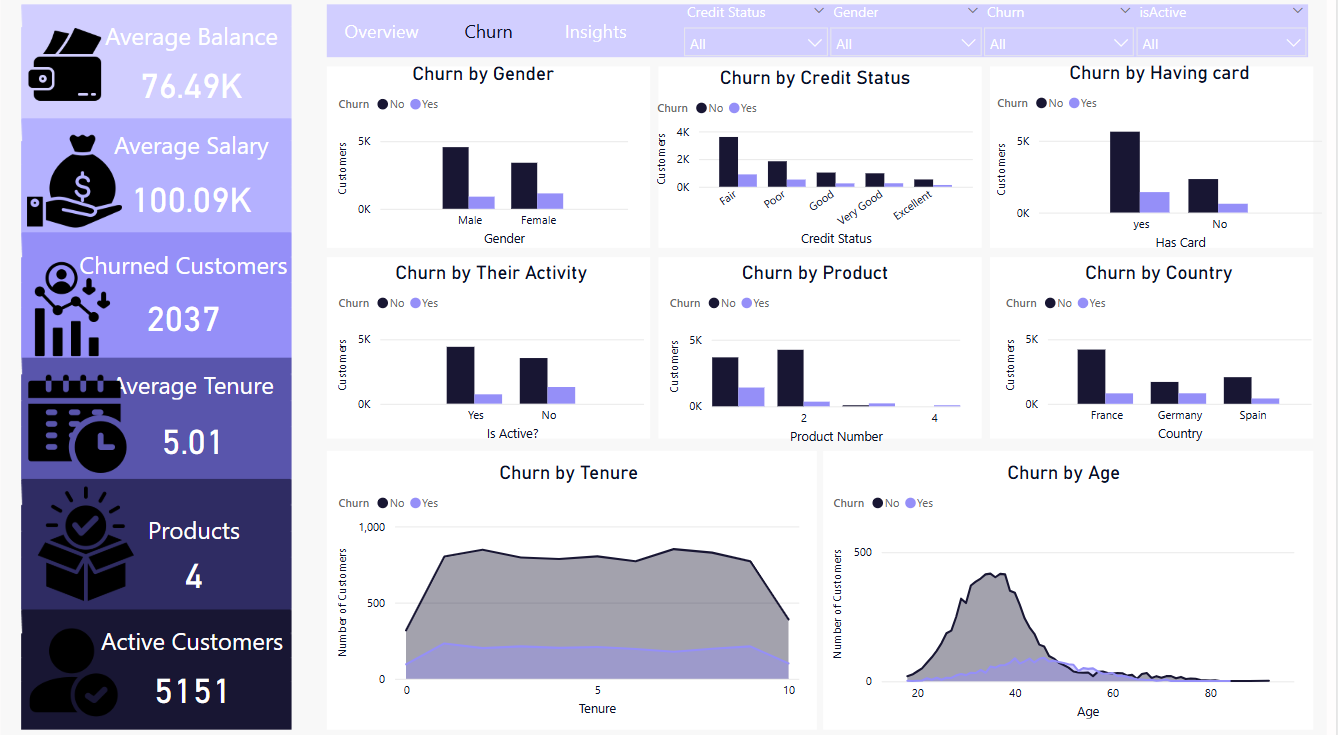

This screenshot's page, from the dashboard's own definition file:
{"tool":"powerbi","page":{"name":"Churn","canvas":[1280,720],"ordinal":1},"visuals":[{"type":"image","box":[0,0,1279.8,720.2],"z":0},{"type":"lineChart","title":"Churn by Tenure","fields":{"Category":["Churn_Modelling.Tenure"],"Y":["CountNonNull(Churn_Modelling.CustomerId)"],"Series":["Churn_Modelling.Churn"]},"box":[325,450,448.8,247.6],"z":1000},{"type":"card","title":"Average Salary","fields":{"Values":["measure_table.salary(avg)"]},"box":[90.5,132.1,198.8,102.4],"z":2000},{"type":"card","title":"Average Tenure","fields":{"Values":["measure_table.tenure(avg)"]},"box":[34.5,360.7,313.1,106],"z":3000},{"type":"card","title":"Active Customers","fields":{"Values":["measure_table.active"]},"box":[40.5,604.8,300,92.9],"z":4000},{"type":"clusteredColumnChart","title":"Churn by Gender","fields":{"Category":["Churn_Modelling.Gender"],"Series":["Churn_Modelling.Churn"],"Y":["CountNonNull(Churn_Modelling.CustomerId)"]},"box":[325,70.2,285.7,179.8],"z":5000},{"type":"lineChart","title":"Churn by Age","fields":{"Category":["Churn_Modelling.Age"],"Series":["Churn_Modelling.Churn"],"Y":["CountNonNull(Churn_Modelling.CustomerId)"]},"box":[796.4,450,448.8,250],"z":6000},{"type":"clusteredColumnChart","title":"Churn by Credit Status","fields":{"Category":["Churn_Modelling.CreditStatus"],"Series":["Churn_Modelling.Churn"],"Y":["CountNonNull(Churn_Modelling.CustomerId)"]},"box":[628.6,73.8,310.7,176.2],"z":7000},{"type":"clusteredColumnChart","title":"Churn by Having card","fields":{"Series":["Churn_Modelling.Churn"],"Category":["Churn_Modelling.HasCard"],"Y":["CountNonNull(Churn_Modelling.CustomerId)"]},"box":[952.4,69,319,184.5],"z":8000},{"type":"clusteredColumnChart","title":"Churn by Country","fields":{"Category":["Churn_Modelling.Geography"],"Y":["CountNonNull(Churn_Modelling.CustomerId)"],"Series":["Churn_Modelling.Churn"]},"box":[960.7,259.5,301.2,176.2],"z":9000},{"type":"clusteredColumnChart","title":"Churn by Product","fields":{"Category":["Churn_Modelling.NumOfProducts"],"Series":["Churn_Modelling.Churn"],"Y":["CountNonNull(Churn_Modelling.CustomerId)"]},"box":[640.5,259.5,286.9,178.6],"z":10000},{"type":"clusteredColumnChart","title":"Churn by Their Activity","fields":{"Category":["Churn_Modelling.isActive"],"Y":["CountNonNull(Churn_Modelling.CustomerId)"],"Series":["Churn_Modelling.Churn"]},"box":[325,259.5,301.2,176.2],"z":11000},{"type":"card","title":"Churned Customers","fields":{"Values":["measure_table.#churn"]},"box":[67.9,246.4,228.6,101.2],"z":12000},{"type":"card","title":"Products","fields":{"Values":["measure_table.products"]},"box":[72.6,498.8,239.3,84.5],"z":13000},{"type":"card","title":"Average Balance","fields":{"Values":["measure_table.balance(avg)"]},"box":[81,28.6,217.9,92.9],"z":14000},{"type":"image","box":[25,20.2,89.3,103.6],"z":15000},{"type":"slicer","fields":{"Values":["Churn_Modelling.CreditStatus"]},"box":[648.8,7.1,157.1,64.3],"z":16000},{"type":"slicer","fields":{"Values":["Churn_Modelling.Gender"]},"box":[788.1,7.1,164.3,64.3],"z":17000},{"type":"slicer","fields":{"Values":["Churn_Modelling.Churn"]},"box":[934.5,7.1,163.1,67.9],"z":18000},{"type":"slicer","fields":{"Values":["Churn_Modelling.isActive"]},"box":[1079.8,7.1,182.1,67.9],"z":19000},{"type":"pageNavigator","box":[325,14.3,298.8,50],"z":20000},{"type":"image","box":[25,250,103.6,109.5],"z":20001},{"type":"image","box":[26.2,592.9,103.6,115.5],"z":20002},{"type":"image","box":[28.6,466.7,121.4,122.6],"z":20004},{"type":"image","box":[28.6,115.5,100,134.5],"z":20005},{"type":"image","box":[29.8,332.1,103.6,164.3],"z":20006}]}

Visuals, with their boxes in screenshot pixels (x1, y1, x2, y2), scaled from the page's 1280x720 canvas onto the 1338x735 screenshot:
image: 0/0/1337/734
"Churn by Tenure" lineChart: 340/459/809/712
"Average Salary" card: 95/135/302/239
"Average Tenure" card: 36/368/363/476
"Active Customers" card: 42/617/356/712
"Churn by Gender" clusteredColumnChart: 340/72/638/255
"Churn by Age" lineChart: 832/459/1302/715
"Churn by Credit Status" clusteredColumnChart: 657/75/982/255
"Churn by Having card" clusteredColumnChart: 996/70/1329/259
"Churn by Country" clusteredColumnChart: 1004/265/1319/445
"Churn by Product" clusteredColumnChart: 670/265/969/447
"Churn by Their Activity" clusteredColumnChart: 340/265/655/445
"Churned Customers" card: 71/252/310/355
"Products" card: 76/509/326/595
"Average Balance" card: 85/29/312/124
image: 26/21/119/126
slicer - Churn_Modelling.CreditStatus: 678/7/842/73
slicer - Churn_Modelling.Gender: 824/7/996/73
slicer - Churn_Modelling.Churn: 977/7/1147/77
slicer - Churn_Modelling.isActive: 1129/7/1319/77
pageNavigator: 340/15/652/66
image: 26/255/134/367
image: 27/605/136/723
image: 30/476/157/602
image: 30/118/134/255
image: 31/339/139/507
